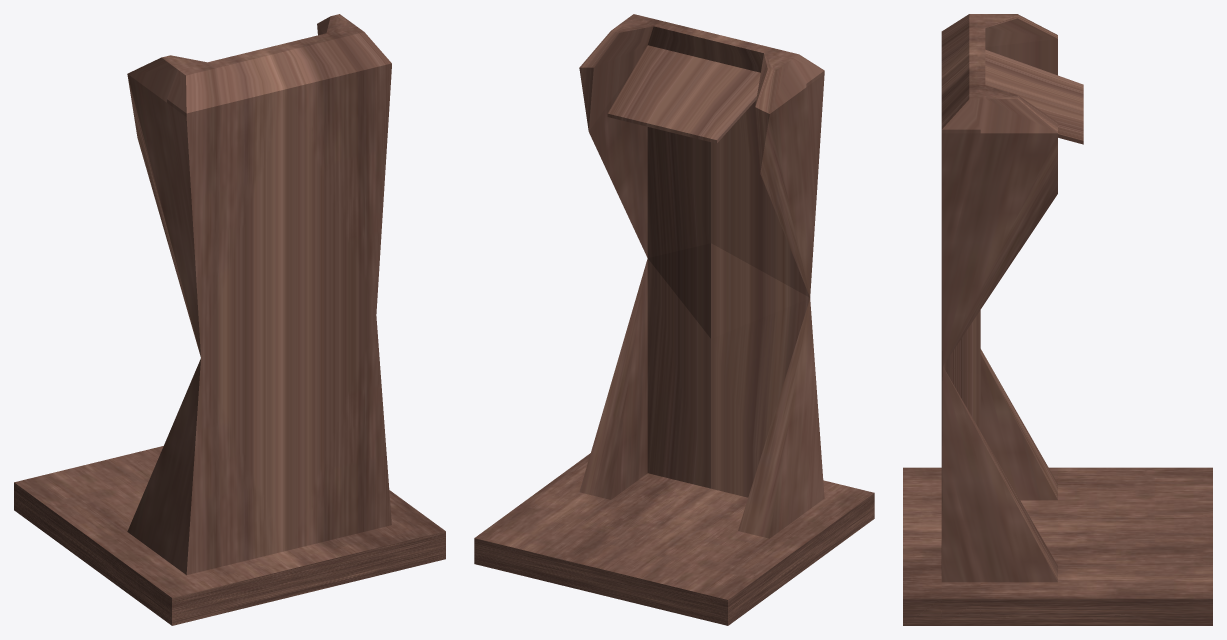
Rendered from lectern.gltf.
3 renders of one model, left to right at view 1: azimuth 30°, elevation 25°; view 2: azimuth 150°, elevation 25°; view 3: azimuth 270°, elevation 25°, orthographic. The views are drawn at different scales.
Visible parts, largest first — view 1: Cube; view 2: Cube; view 3: Cube.
Boxes of the visible parts, bbox=[...] form: Cube: bbox=[14, 14, 445, 625]; Cube: bbox=[474, 14, 874, 625]; Cube: bbox=[903, 14, 1212, 625].
Bounding box in the file's own units: 2 × 3.59 × 2.
Materials: 1 (1 with a texture image).
